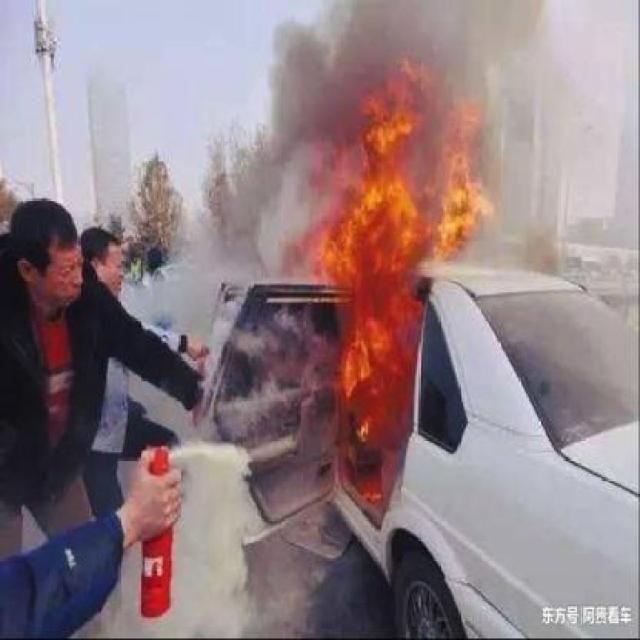Fire: (318, 41, 493, 525)
Smoke: (494, 14, 564, 274), (270, 46, 319, 284), (280, 2, 490, 42)
